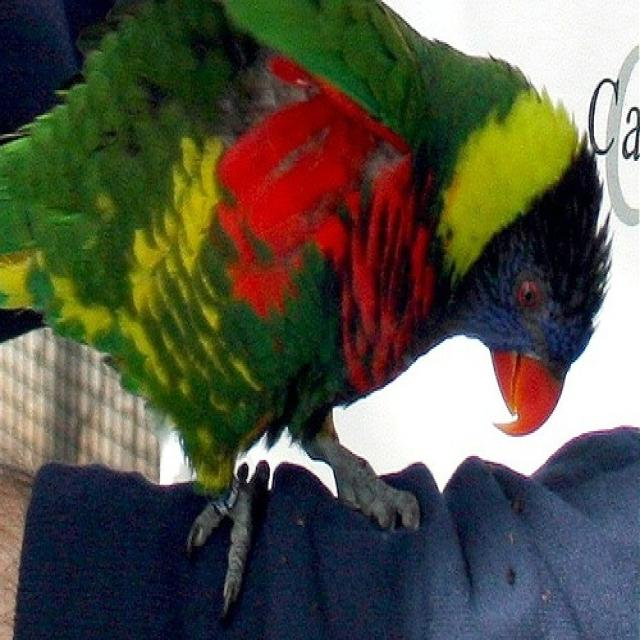bird: (3, 3, 616, 622)
